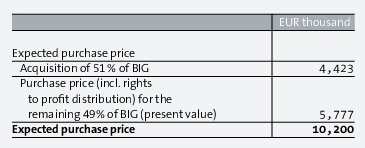table: (0, 0, 365, 148)
